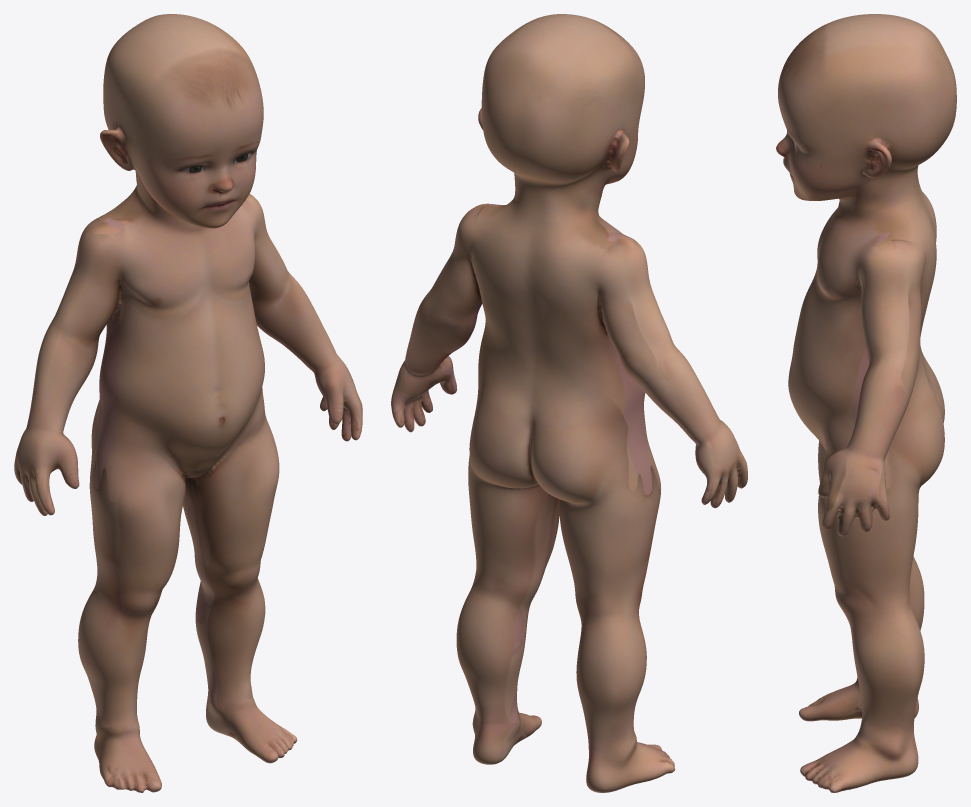
File: simplekid.glb
3 renders of one model, left to right at view 1: azimuth 30°, elevation 25°; view 2: azimuth 150°, elevation 25°; view 3: azimuth 270°, elevation 25°, orthographic.
Bounding box in the file's own units: 0.9346 × 1.99 × 0.4493.
1 material, 1 textured.
